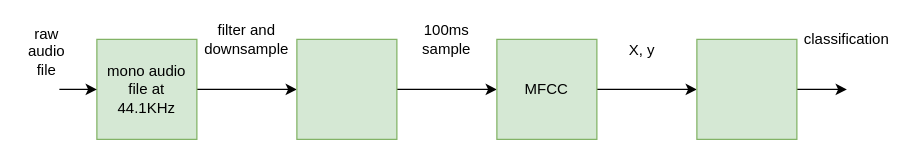
Some shapes in this 910 by 161 pixel diagram are drawn without their labels. The shapes that lost their labels are listed below. From the top down, each one's box as (x1, y1, x2, y2) in pixels, then its label:
(296, 38, 397, 139): audio file at 16KHz
(696, 38, 797, 139): Model
